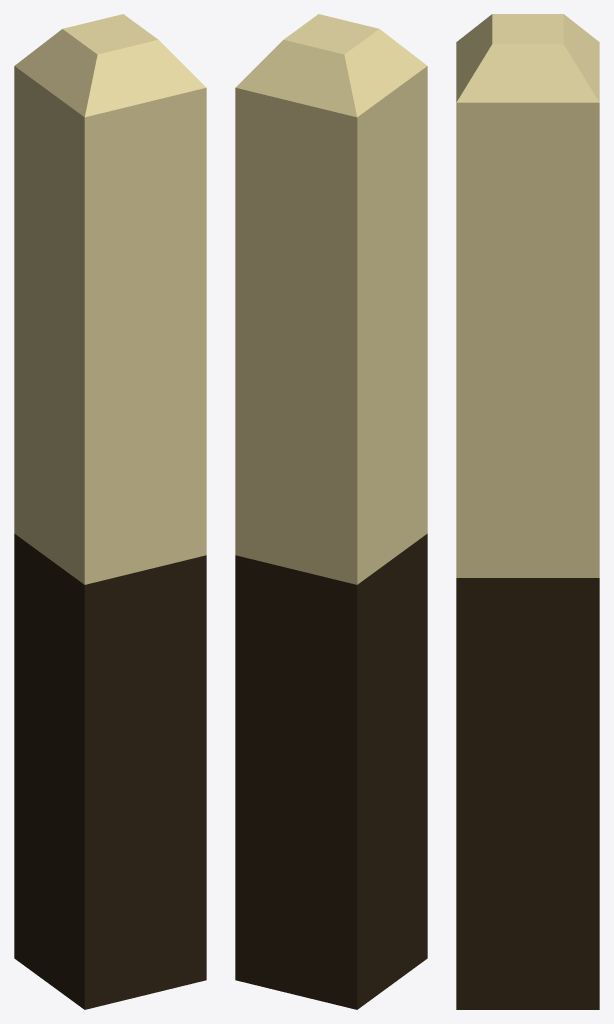
Rendered from Pillar.fbx.
3 views of the same model, side by side, from view 1: azimuth 30°, elevation 25°; view 2: azimuth 150°, elevation 25°; view 3: azimuth 270°, elevation 25° (orthographic).
Parts seen in each view (by area): view 1: Pillar; view 2: Pillar; view 3: Pillar.
Boxes of the visible parts, x1,y1,x2,y2 form: Pillar: (14, 14, 206, 1009); Pillar: (235, 14, 427, 1009); Pillar: (456, 14, 599, 1009).
Size of the model in its own units: 30 by 220 by 30.
